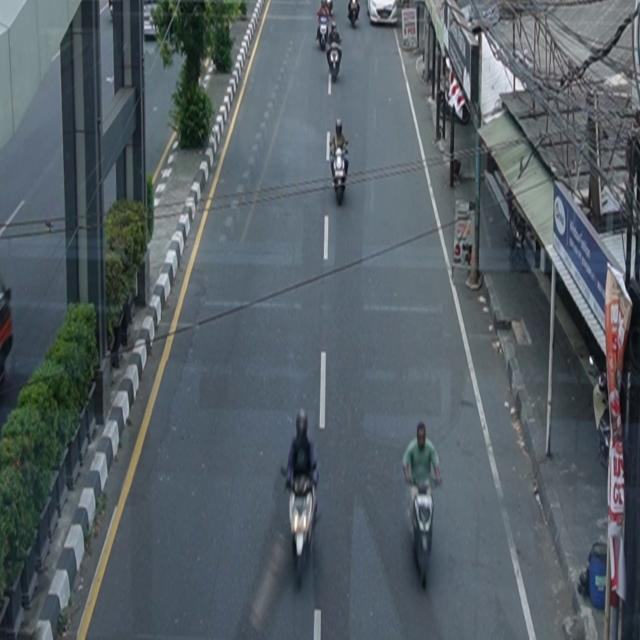car: (1, 275, 14, 383), (367, 1, 398, 26)
